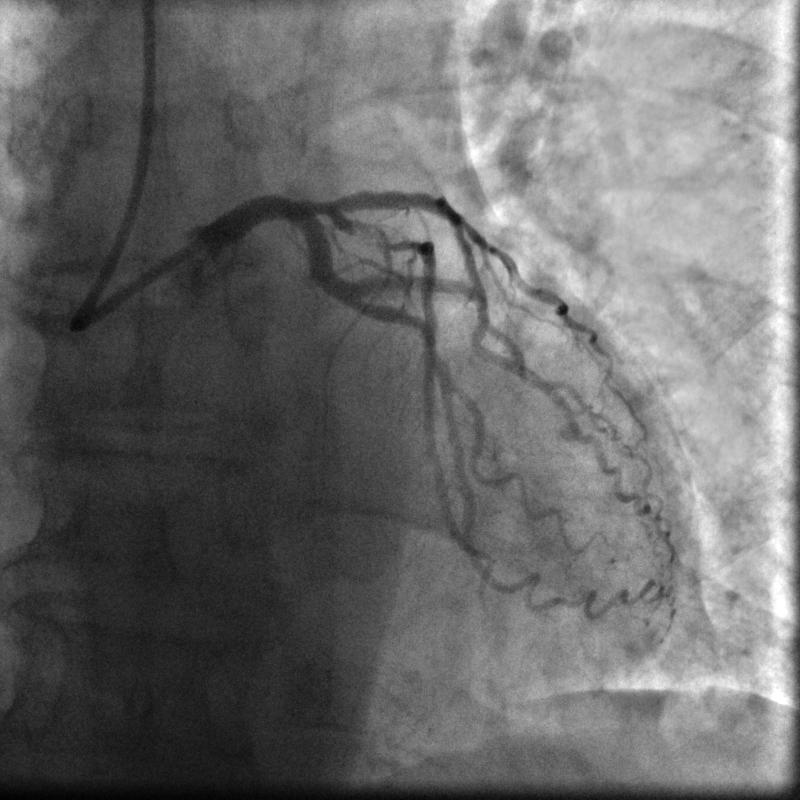Stenosis: (345, 214, 405, 256)
